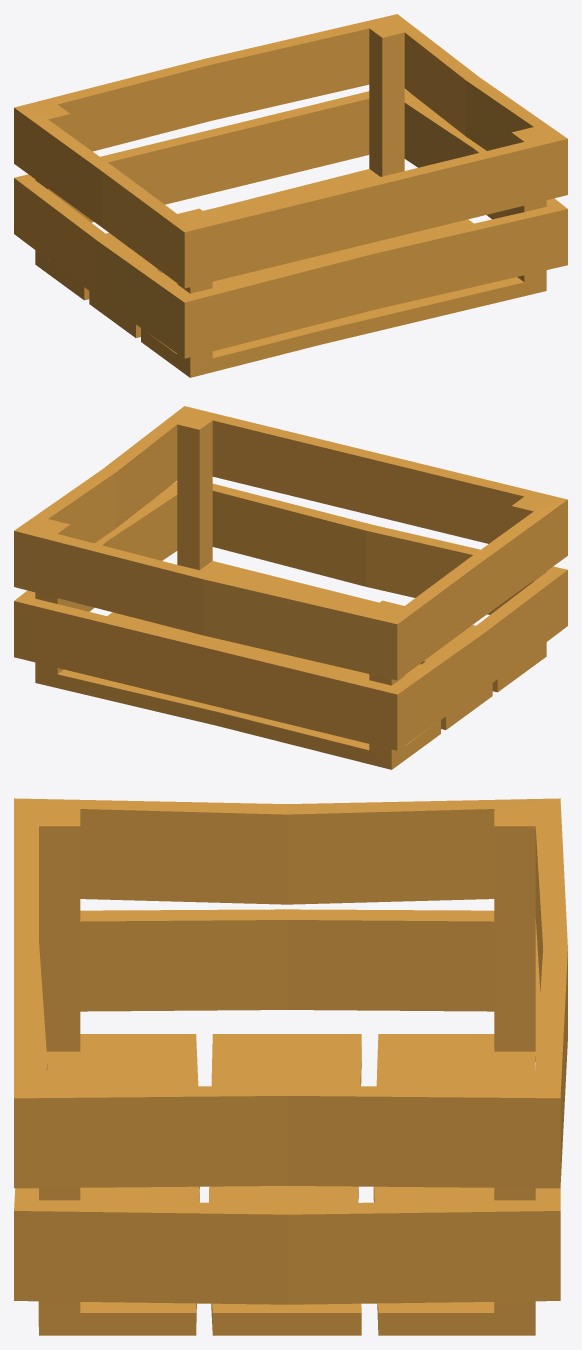
Rendered from egypt-crate.fbx.
3 renders of one model, top to bottom at view 1: azimuth 30°, elevation 25°; view 2: azimuth 150°, elevation 25°; view 3: azimuth 270°, elevation 25°, orthographic. The views are drawn at different scales.
Parts seen in each view (by area): view 1: egypt-crate; view 2: egypt-crate; view 3: egypt-crate.
Boxes of the visible parts, <box> form: egypt-crate: <box>14,14,567,377</box>; egypt-crate: <box>14,406,567,769</box>; egypt-crate: <box>14,798,567,1335</box>.
Size of the model in its own units: 0.8725 by 0.33 by 0.6692.
